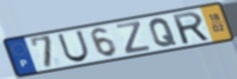6: (90, 26, 119, 58)
7: (27, 34, 56, 70)
Q: (148, 17, 179, 48)
R: (170, 10, 212, 46)
U: (56, 29, 91, 64)
Z: (115, 20, 153, 55)
